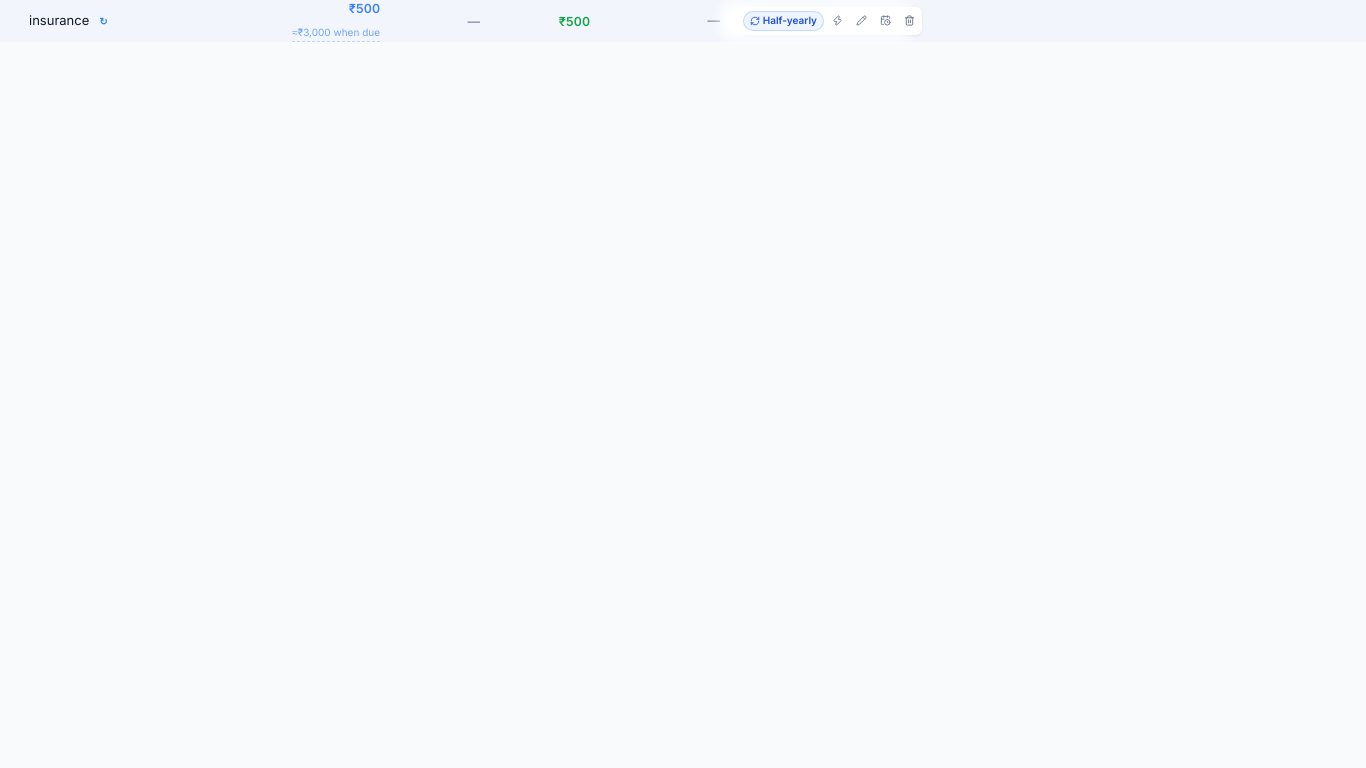
Scenario: BudgetCategoryRow — frequency picker › shows the existing due months next to an already-selected non-monthly frequency
What coordinates should you click on to do the following:
click the button with aria-label "recurring frequency for insurance"
I would click on:
 (783, 21)
Its box is [743,11,824,31].
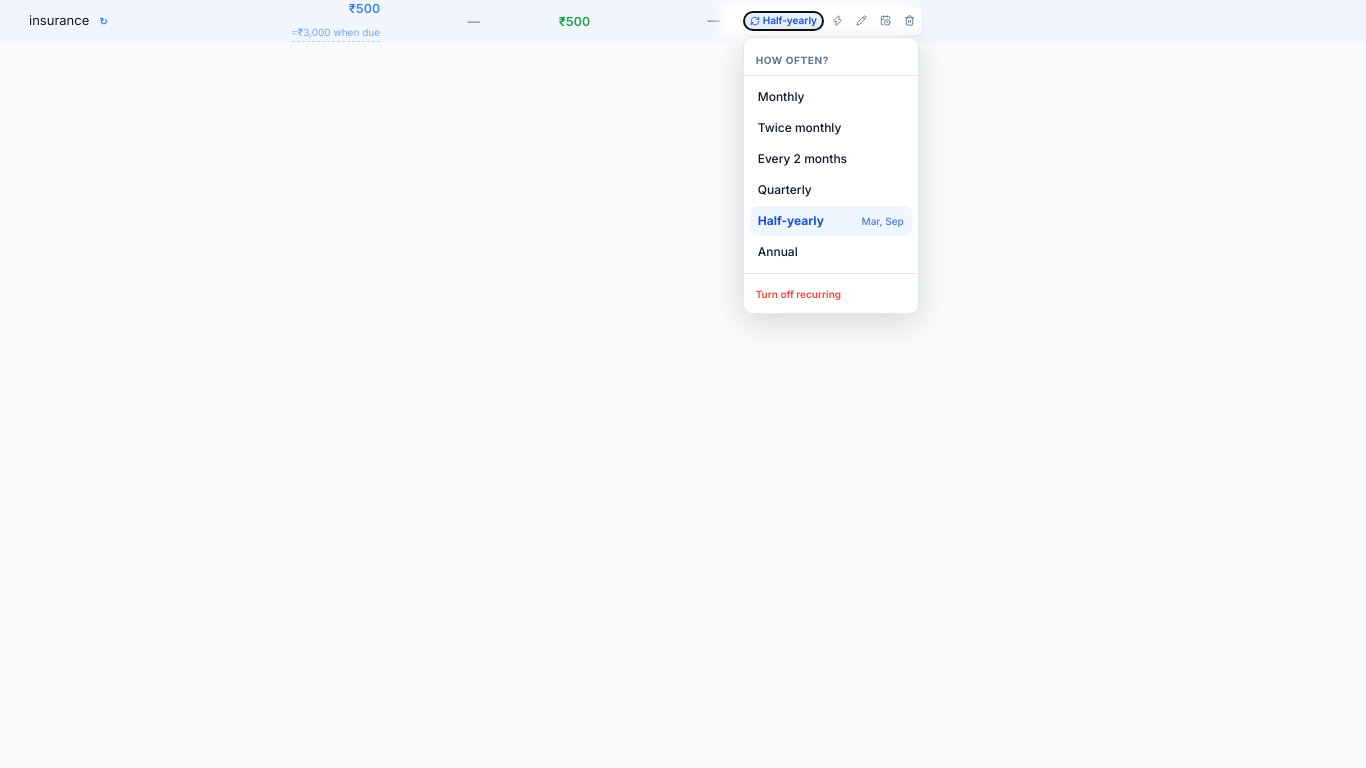
Result: the text "Mar, Sep" is shown at [862,214,904,229]
